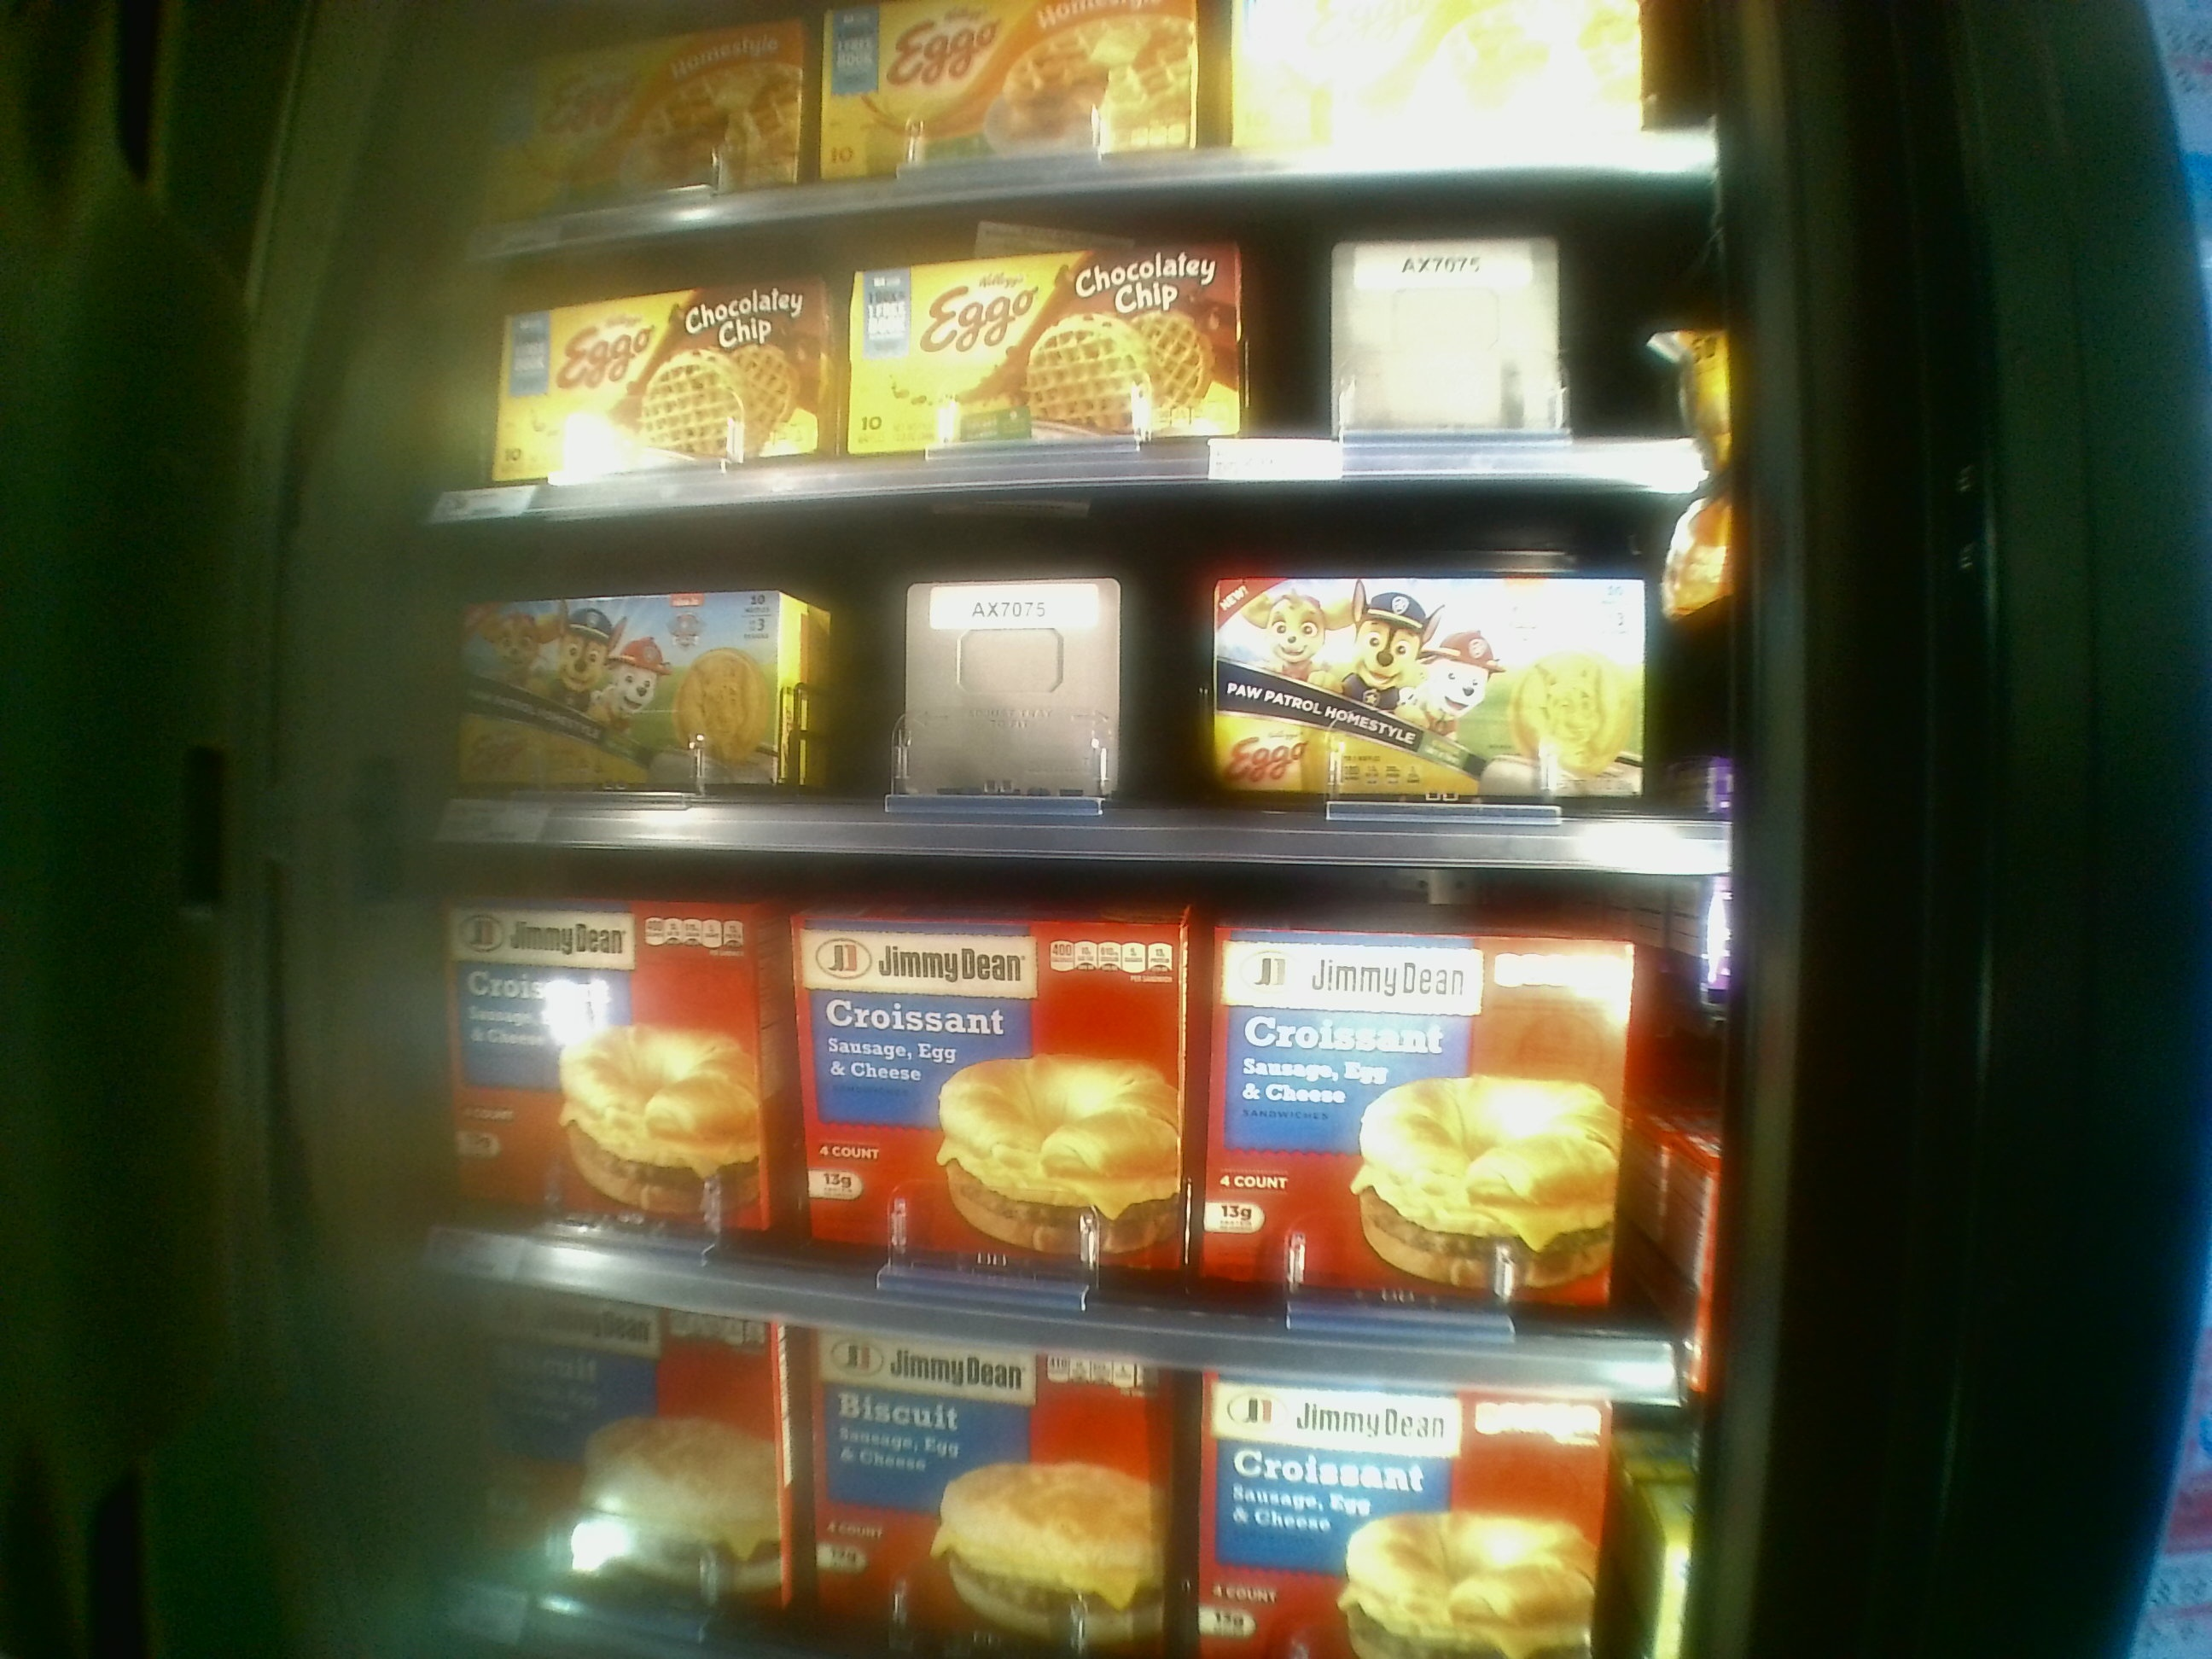shelf: (435, 477, 1735, 877), (427, 176, 1730, 521)
